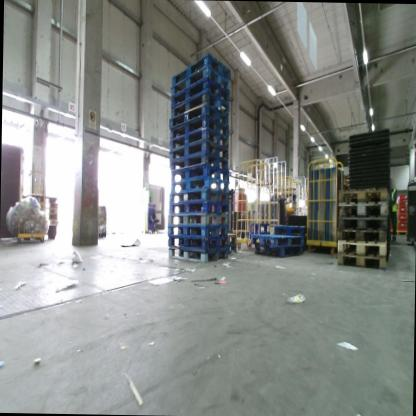pallet: (172, 53, 233, 87), (170, 88, 232, 117), (170, 78, 230, 106), (171, 112, 228, 140), (172, 66, 231, 92), (168, 105, 228, 128), (166, 232, 228, 254), (170, 140, 229, 163), (167, 243, 231, 264), (170, 162, 228, 185), (168, 185, 229, 206), (166, 209, 227, 229), (171, 130, 228, 151), (170, 153, 228, 173), (169, 176, 229, 195), (335, 238, 388, 259), (339, 182, 389, 204), (336, 249, 388, 270), (167, 223, 228, 240), (169, 199, 229, 216), (251, 241, 307, 259), (251, 230, 306, 248), (337, 199, 387, 218), (336, 227, 386, 245), (336, 213, 388, 230), (272, 222, 307, 238), (215, 229, 239, 247), (221, 241, 242, 258), (44, 217, 62, 225), (37, 207, 57, 214)
